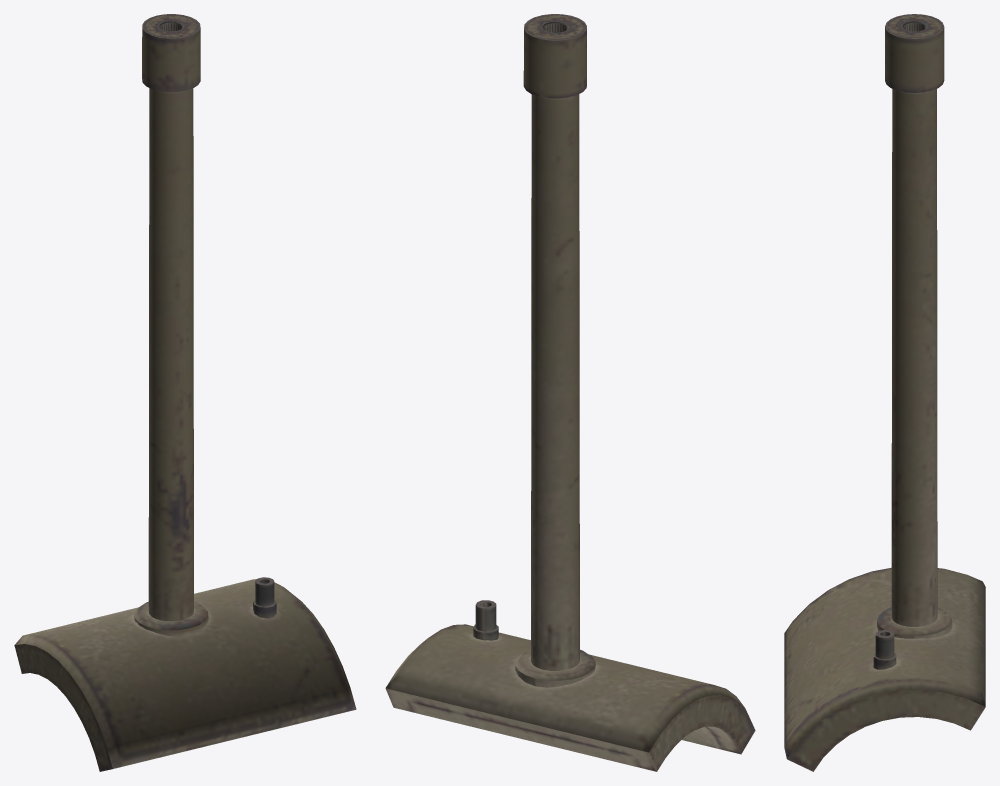
The model's file is Gun_01.glb.
The picture shows the model from 3 angles, left to right: view 1: azimuth 30°, elevation 25°; view 2: azimuth 150°, elevation 25°; view 3: azimuth 270°, elevation 25°; orthographic projection. The views are drawn at different scales.
Visible parts, largest first — view 1: set_0_group_0; view 2: set_0_group_0; view 3: set_0_group_0.
Part boxes in pixels (x1=…): set_0_group_0: x1=14, y1=14, x2=356, y2=771; set_0_group_0: x1=385, y1=14, x2=755, y2=771; set_0_group_0: x1=784, y1=14, x2=985, y2=771.
Bounding box in the file's own units: 0.7184 × 1.91 × 0.5104.
1 material, 1 textured.
